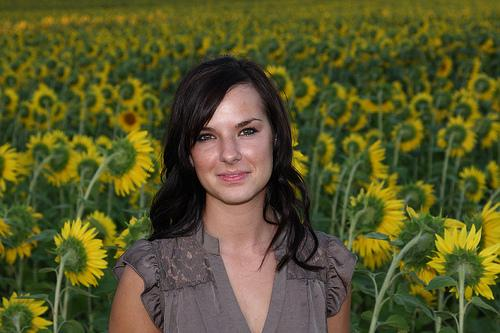sunflower: (426, 226, 500, 301), (348, 180, 401, 261), (56, 219, 104, 287), (110, 132, 152, 193), (0, 202, 41, 262), (1, 294, 52, 333), (42, 138, 80, 185), (439, 119, 475, 156), (0, 139, 19, 198), (460, 164, 488, 202), (265, 66, 297, 98), (391, 120, 424, 151), (28, 85, 60, 116), (116, 77, 143, 106), (325, 97, 354, 123), (116, 109, 144, 133), (482, 117, 499, 147), (317, 135, 335, 162)
